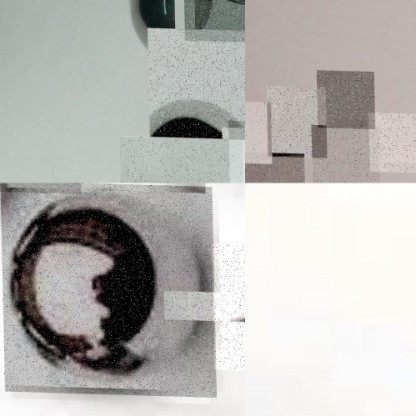ironball: (0, 182, 215, 395), (146, 26, 245, 138), (118, 134, 243, 182), (210, 240, 245, 369), (265, 84, 325, 156), (310, 123, 378, 182), (315, 68, 373, 127), (367, 110, 415, 171), (182, 0, 245, 41), (245, 150, 303, 182), (245, 99, 270, 162)
